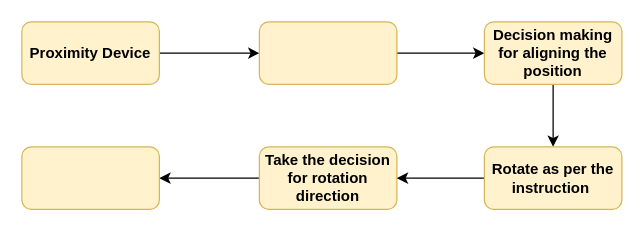
Some shapes in this 644 by 231 pixel diagram are drawn without their labels. The shapes that lost their labels are listed below. From the top down, each one's centre as x and y in pixels, then its label:
At pixel 327 52: "Sensing Process".
At pixel 90 177: "Align to the centre proximity device".
